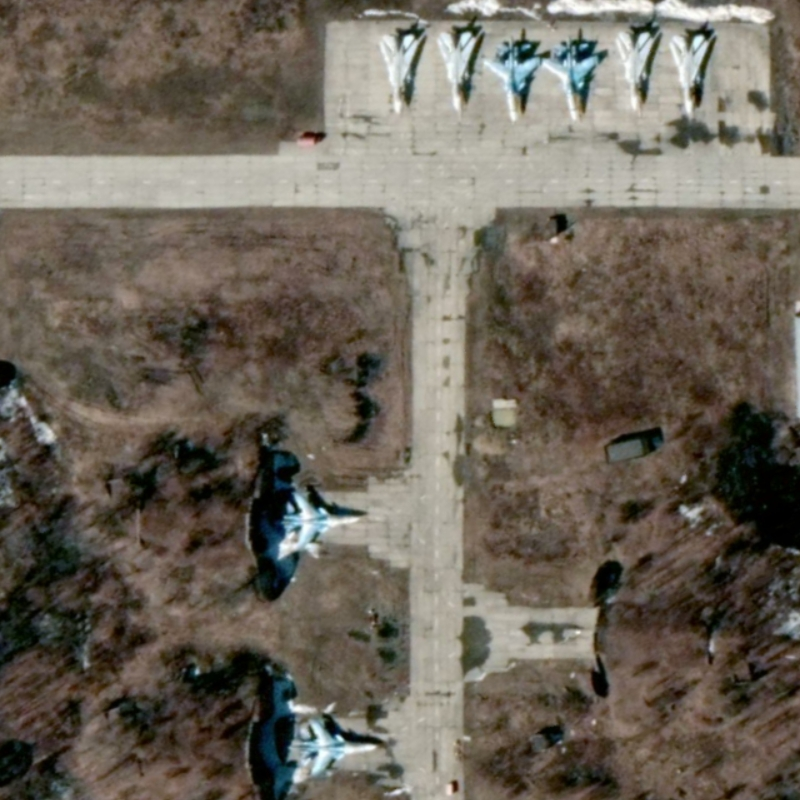A19: (286, 715, 381, 782), (275, 489, 363, 553), (481, 35, 542, 124), (540, 35, 601, 123)
A20: (375, 32, 421, 116), (433, 30, 479, 113), (666, 33, 711, 116), (612, 30, 656, 113)
